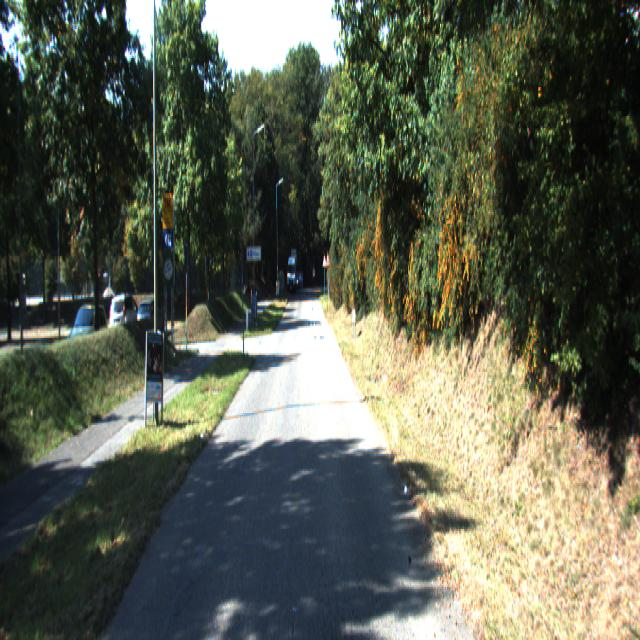Car: (63, 302, 110, 369), (109, 292, 142, 341)
